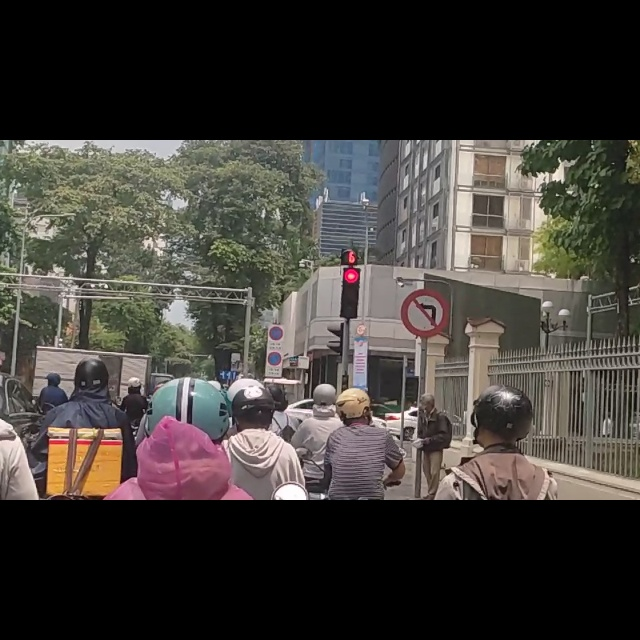bien_cam: (400, 260, 449, 352), (267, 328, 283, 359), (266, 373, 282, 404)
